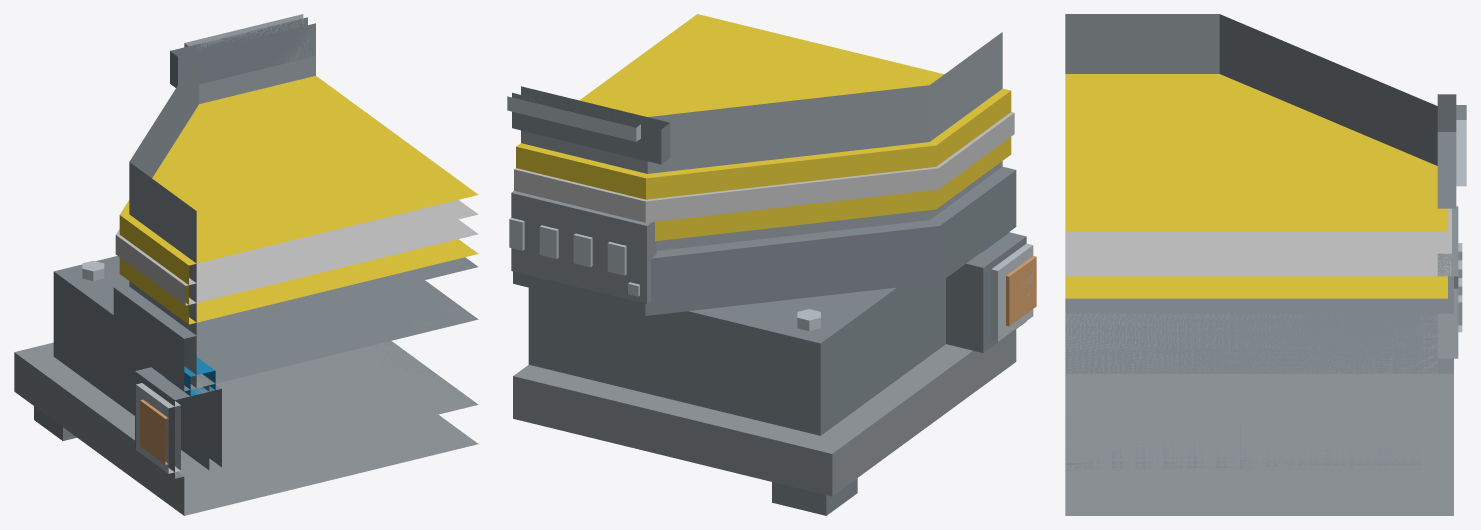
Rendered from cell_0.obj.
3 views of the same model, side by side, from view 1: azimuth 30°, elevation 25°; view 2: azimuth 150°, elevation 25°; view 3: azimuth 270°, elevation 25° (orthographic). The views are drawn at different scales.
Bounding box in the file's own units: 1 × 1 × 0.97.
